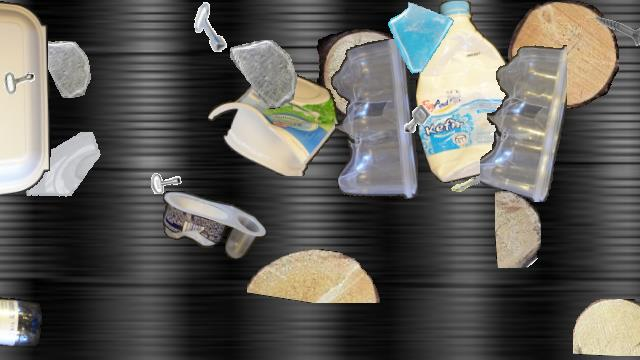glass: (24, 132, 106, 214), (384, 1, 458, 75), (230, 40, 298, 108), (36, 41, 92, 97)
metal: (434, 152, 492, 210), (586, 1, 640, 59), (186, 1, 238, 53), (0, 41, 45, 101), (141, 149, 185, 193), (396, 98, 438, 140)
plastic: (416, 1, 518, 183), (328, 39, 418, 203), (208, 70, 338, 176), (480, 41, 566, 201), (0, 1, 50, 197), (163, 191, 265, 259), (0, 292, 42, 346)
wood: (508, 1, 618, 109), (314, 29, 410, 119), (247, 249, 383, 303), (573, 299, 640, 355), (495, 190, 541, 268)
